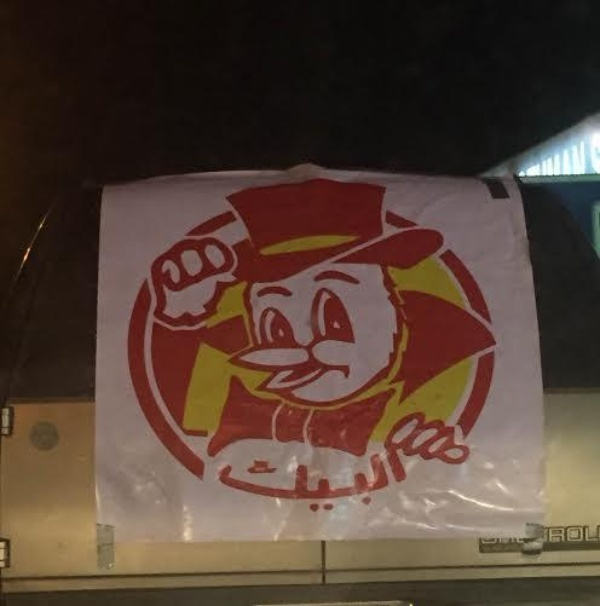text: (225, 434, 240, 528), (241, 434, 256, 528), (257, 434, 272, 528), (273, 434, 288, 528), (289, 434, 304, 528), (305, 434, 320, 528), (321, 434, 336, 528), (337, 434, 352, 528), (353, 434, 368, 528), (369, 434, 384, 528), (385, 434, 400, 528), (401, 434, 416, 528), (417, 434, 428, 528), (216, 434, 224, 528), (481, 527, 496, 548), (497, 527, 512, 548), (513, 527, 528, 548), (529, 527, 544, 548), (545, 527, 560, 548), (561, 527, 576, 548), (577, 527, 592, 548), (593, 527, 598, 548)
